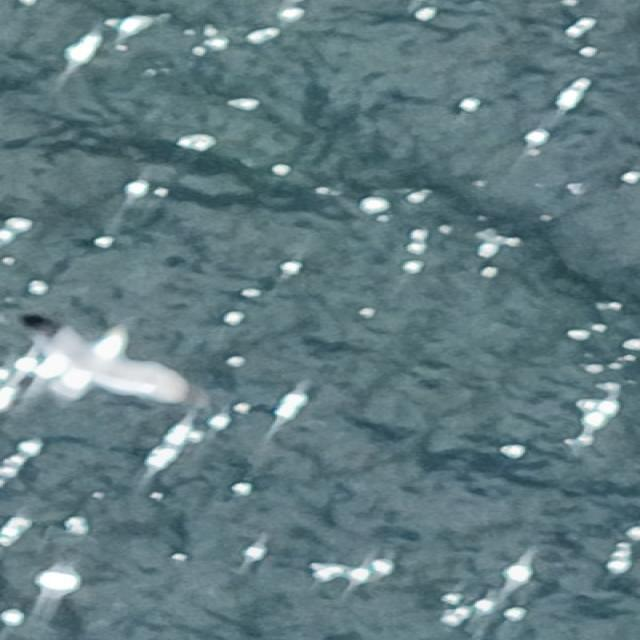F: (27, 322, 195, 402)
